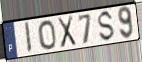7: (77, 13, 93, 45)
9: (117, 6, 135, 41)
I: (24, 21, 33, 55)
O: (37, 19, 58, 51)
S: (97, 9, 116, 43)
X: (56, 14, 78, 50)
